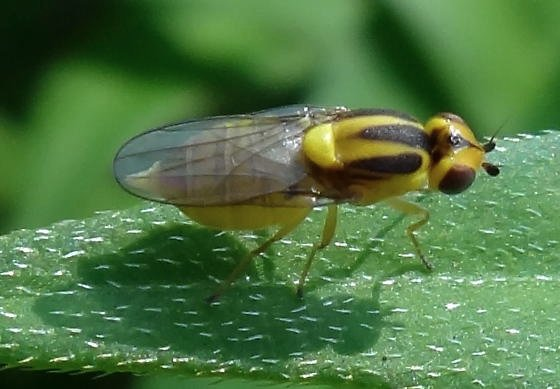Chloropidae: (114, 104, 510, 311)
